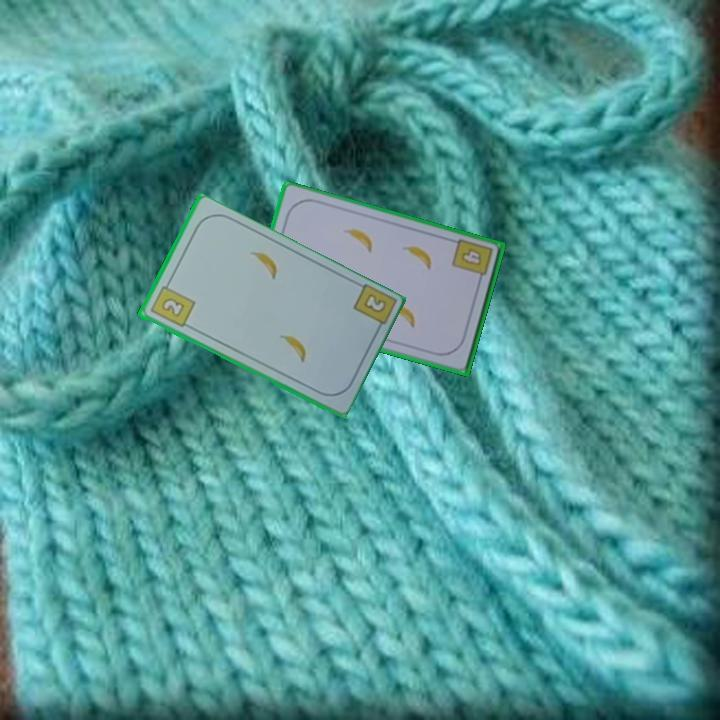2b: (146, 278, 197, 331), (360, 290, 387, 314)
4b: (457, 245, 484, 269)
